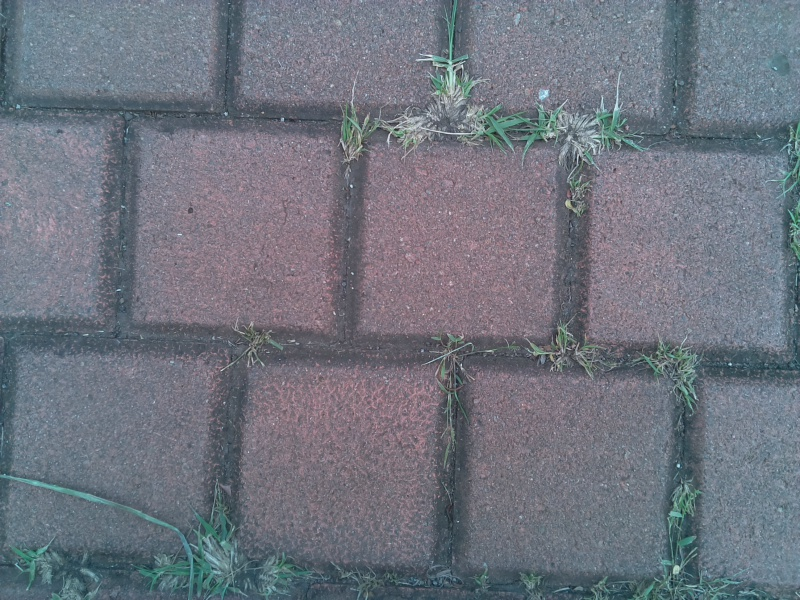Weed: (141, 504, 245, 597), (533, 89, 641, 166), (417, 36, 489, 119), (426, 331, 477, 444), (523, 322, 613, 385), (640, 334, 705, 413), (329, 96, 377, 166), (453, 103, 520, 153), (5, 537, 69, 587), (226, 320, 284, 368), (384, 104, 435, 158), (249, 551, 300, 599), (332, 561, 394, 599), (665, 474, 703, 529)
